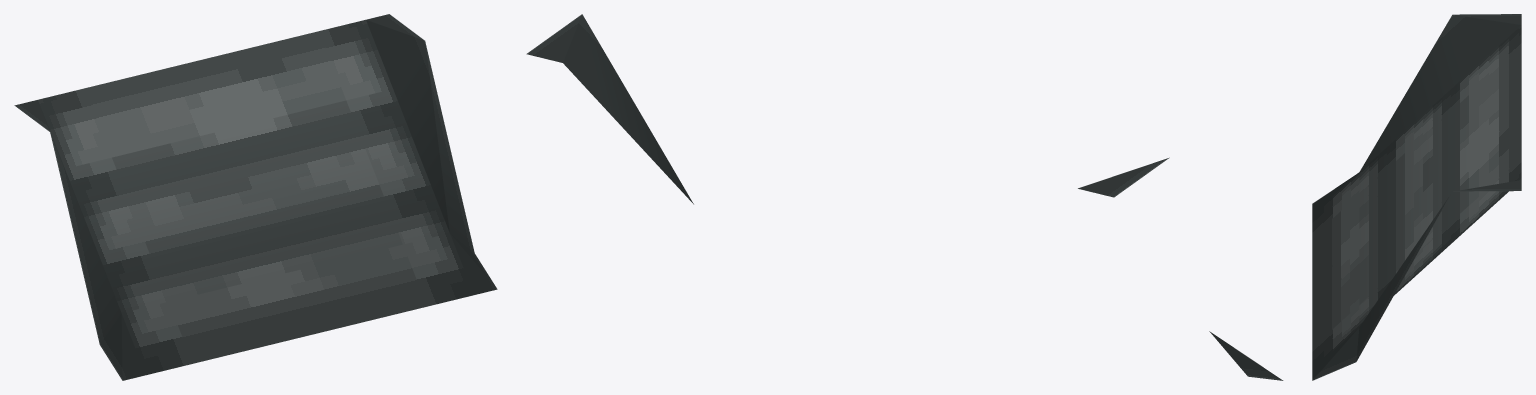
The picture shows the model from 3 angles, left to right: view 1: azimuth 30°, elevation 25°; view 2: azimuth 150°, elevation 25°; view 3: azimuth 270°, elevation 25°; orthographic projection. The views are drawn at different scales.
Bounding box in the file's own units: 2 × 1 × 1.
1 material, 1 textured.
